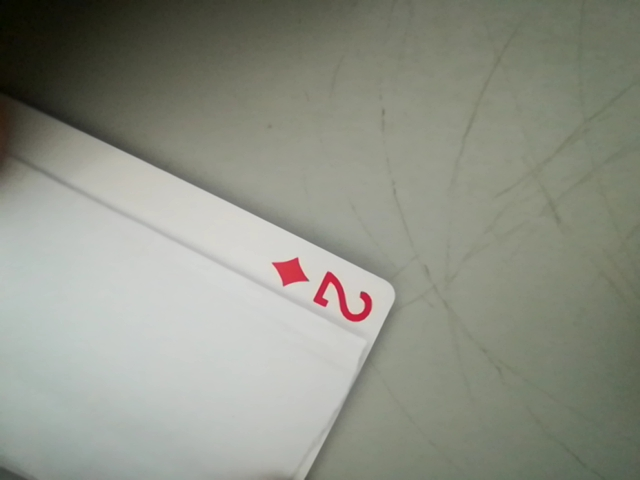fk 2: (266, 249, 384, 334)
